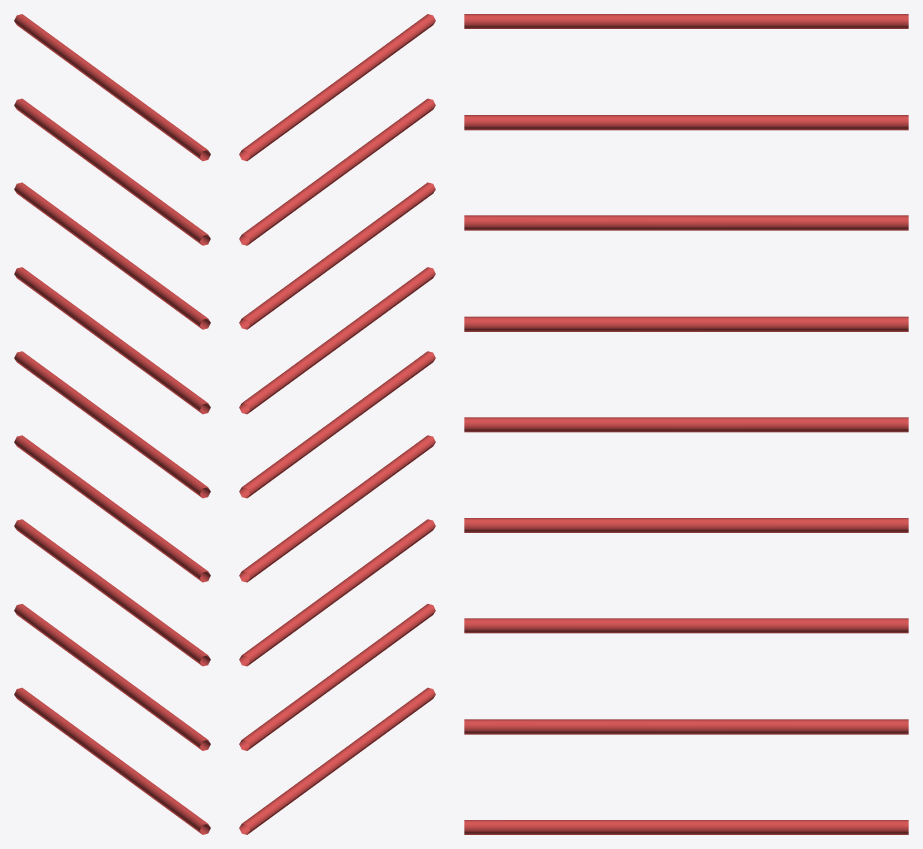
The model's file is fx_laserFence_lasers.fbx.
3 renders of one model, left to right at view 1: azimuth 30°, elevation 25°; view 2: azimuth 150°, elevation 25°; view 3: azimuth 270°, elevation 25°, orthographic. The views are drawn at different scales.
Visible parts, largest first — view 1: fx_laserFence_lasers_001; view 2: fx_laserFence_lasers_001; view 3: fx_laserFence_lasers_001.
Part boxes in pixels (bbox=[...]): fx_laserFence_lasers_001: bbox=[14, 14, 210, 834]; fx_laserFence_lasers_001: bbox=[239, 14, 435, 834]; fx_laserFence_lasers_001: bbox=[464, 14, 908, 834].
Bounding box in the file's own units: 3.42 × 203 × 100.
